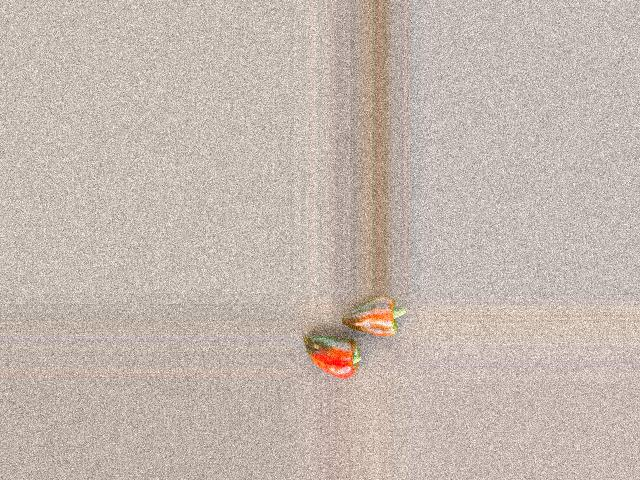bell_pepper: (300, 332, 382, 380)
